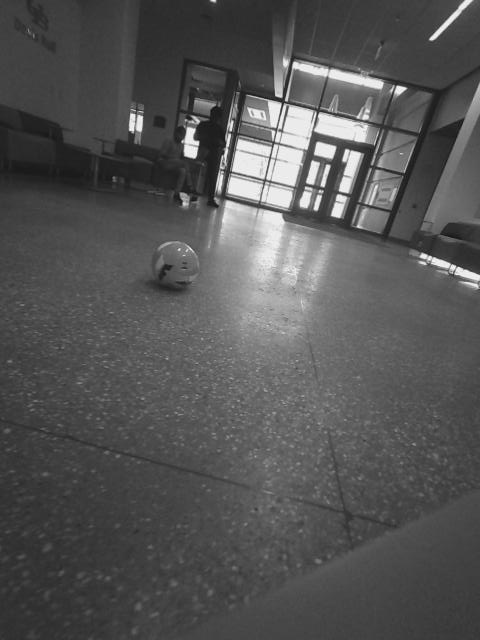ball: (307, 256, 352, 299)
